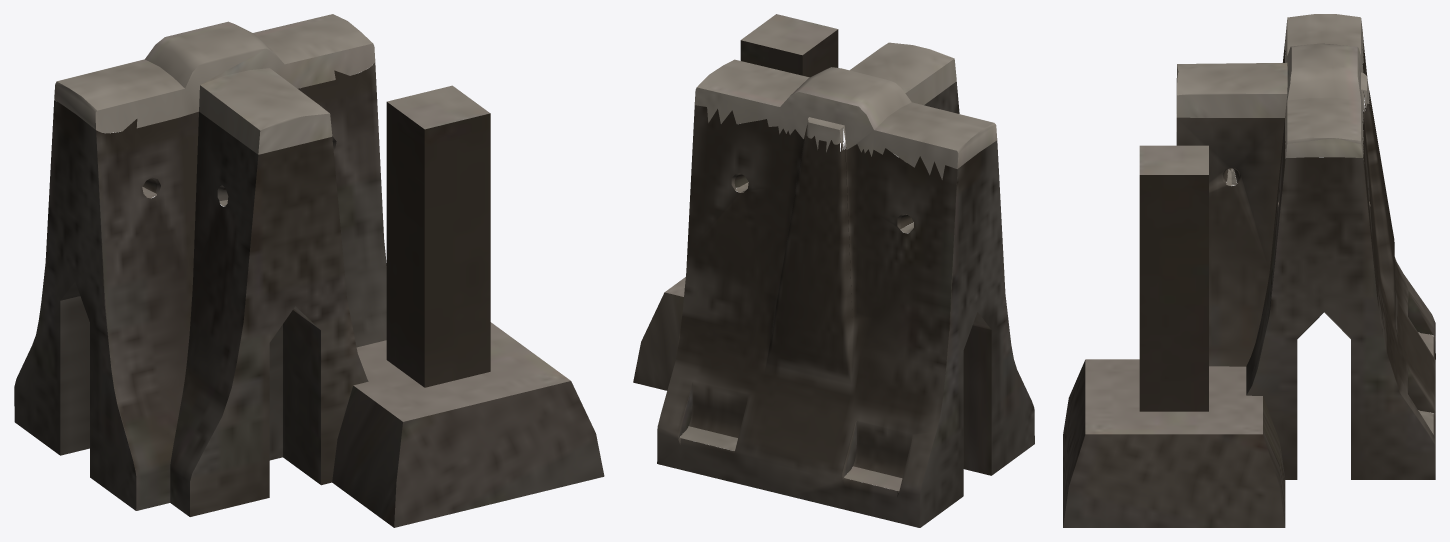
The model's file is stone-wall-esw-fill.glb.
3 renders of one model, left to right at view 1: azimuth 30°, elevation 25°; view 2: azimuth 150°, elevation 25°; view 3: azimuth 270°, elevation 25°, orthographic. The views are drawn at different scales.
Visible parts, largest first — view 1: body; view 2: body; view 3: body.
Boxes of the visible parts, x1=… form: body: x1=14, y1=14, x2=604, y2=527; body: x1=633, y1=14, x2=1034, y2=527; body: x1=1063, y1=14, x2=1435, y2=527.
Bounding box in the file's own units: 1.36 × 1.32 × 1.24.
1 material, 1 textured.
